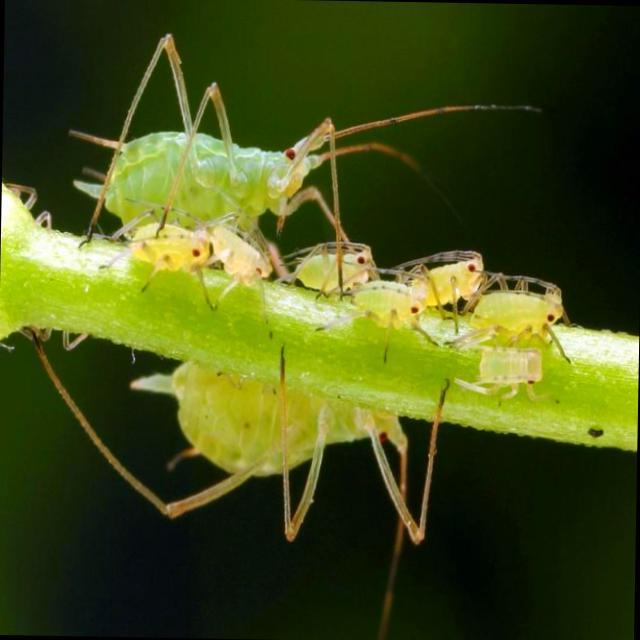aphid: (34, 66, 540, 265), (98, 202, 216, 291), (470, 268, 590, 345), (338, 265, 437, 338), (402, 240, 494, 312), (289, 231, 383, 301)
